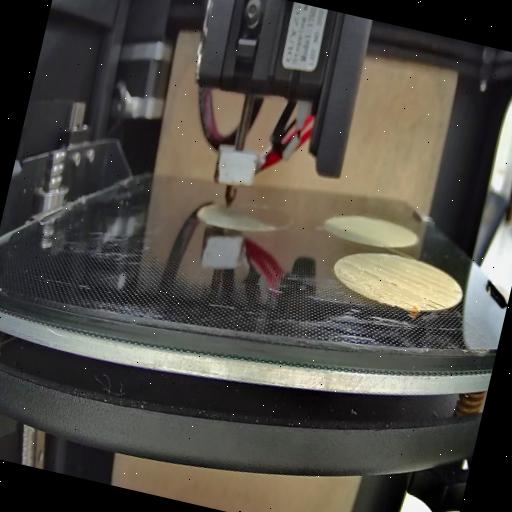under_extrusion: (416, 293, 448, 315), (382, 278, 406, 293), (336, 274, 358, 290), (358, 270, 382, 284), (394, 297, 415, 312), (372, 290, 390, 304), (450, 286, 464, 298)
